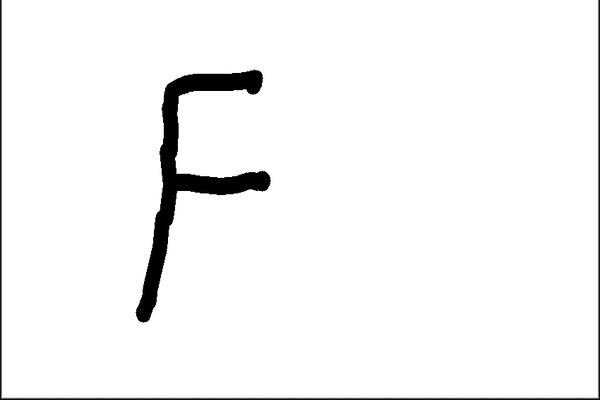F: (132, 65, 277, 324)
